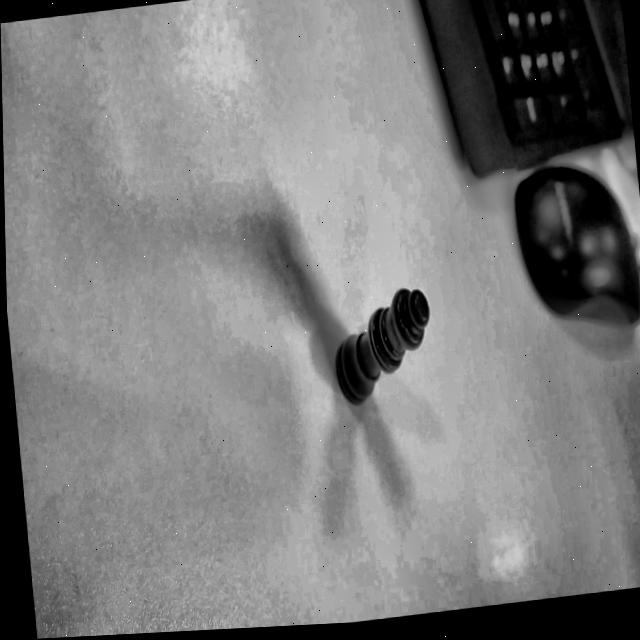black-queen: (312, 265, 449, 418)
